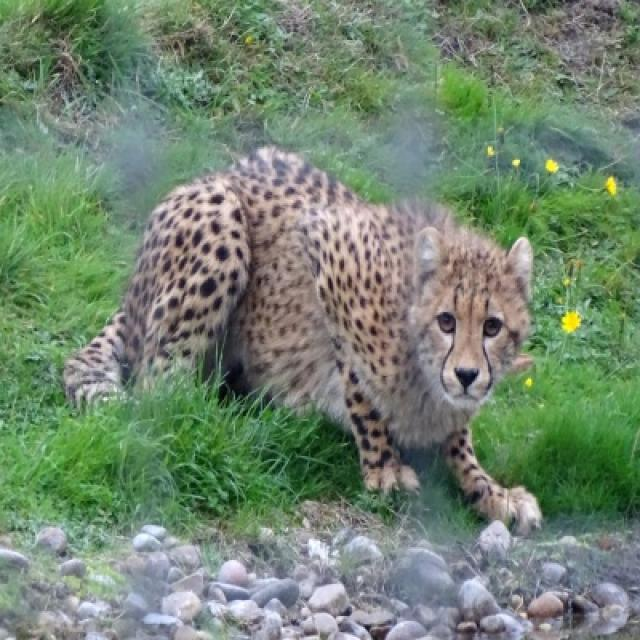Cheetah: (62, 147, 544, 541)
